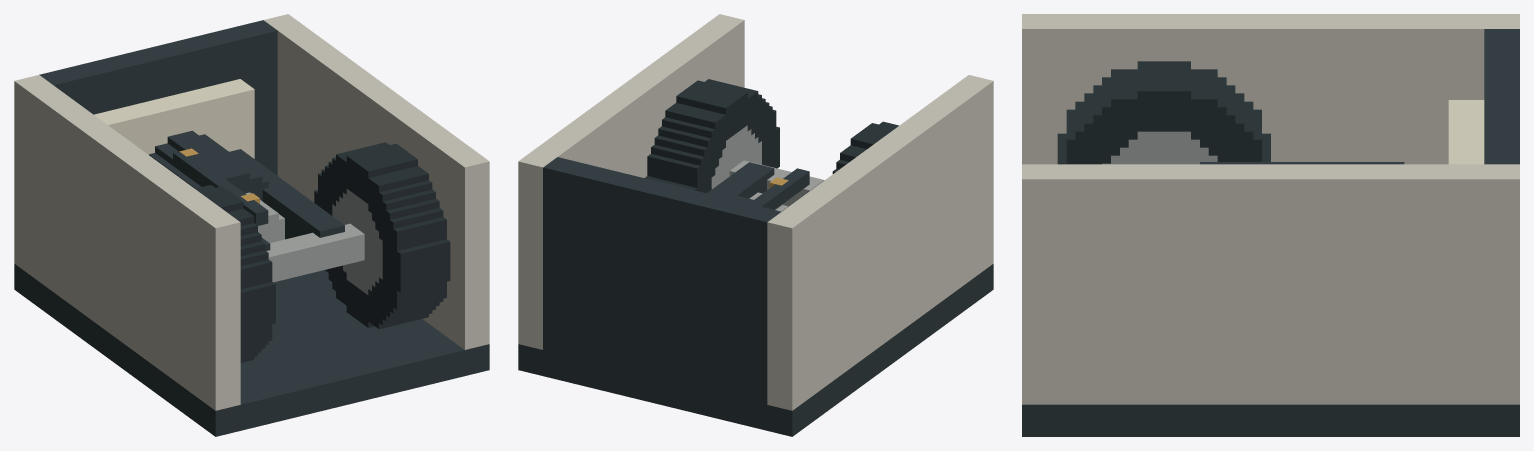
3 views of the same model, side by side, from view 1: azimuth 30°, elevation 25°; view 2: azimuth 150°, elevation 25°; view 3: azimuth 270°, elevation 25° (orthographic). The views are drawn at different scales.
Visible parts, largest first — view 1: 有实际底托的收起检修舱，非飞行中机身（辅助）, 公共客机起落架与轮组; view 2: 有实际底托的收起检修舱，非飞行中机身（辅助）, 公共客机起落架与轮组; view 3: 有实际底托的收起检修舱，非飞行中机身（辅助）, 公共客机起落架与轮组.
Boxes of the visible parts, x1=… form: 有实际底托的收起检修舱，非飞行中机身（辅助）: x1=14, y1=14, x2=489, y2=436; 公共客机起落架与轮组: x1=94, y1=79, x2=450, y2=362; 有实际底托的收起检修舱，非飞行中机身（辅助）: x1=518, y1=14, x2=993, y2=436; 公共客机起落架与轮组: x1=644, y1=79, x2=898, y2=211; 有实际底托的收起检修舱，非飞行中机身（辅助）: x1=1022, y1=14, x2=1519, y2=436; 公共客机起落架与轮组: x1=1057, y1=61, x2=1484, y2=164.
Bounding box in the file's own units: 2.2 × 1.6 × 2.8.
Materials: 7 (7 with a texture image).
